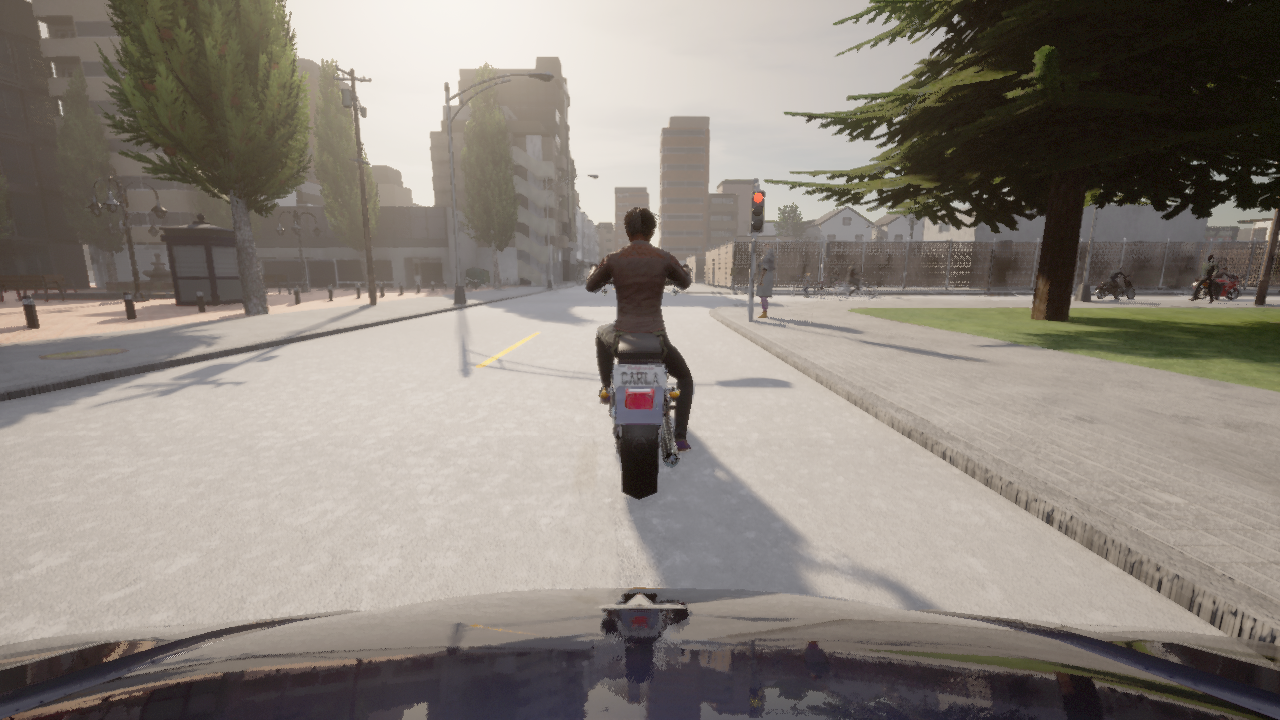cyclist: (0, 588, 1279, 719), (590, 265, 691, 498), (1192, 274, 1244, 299), (1094, 273, 1136, 299), (836, 275, 875, 300), (814, 278, 847, 295), (744, 268, 749, 273), (864, 268, 866, 269)
pedestrian: (1187, 254, 1219, 303), (755, 242, 775, 318), (729, 262, 737, 291), (803, 274, 809, 297)
